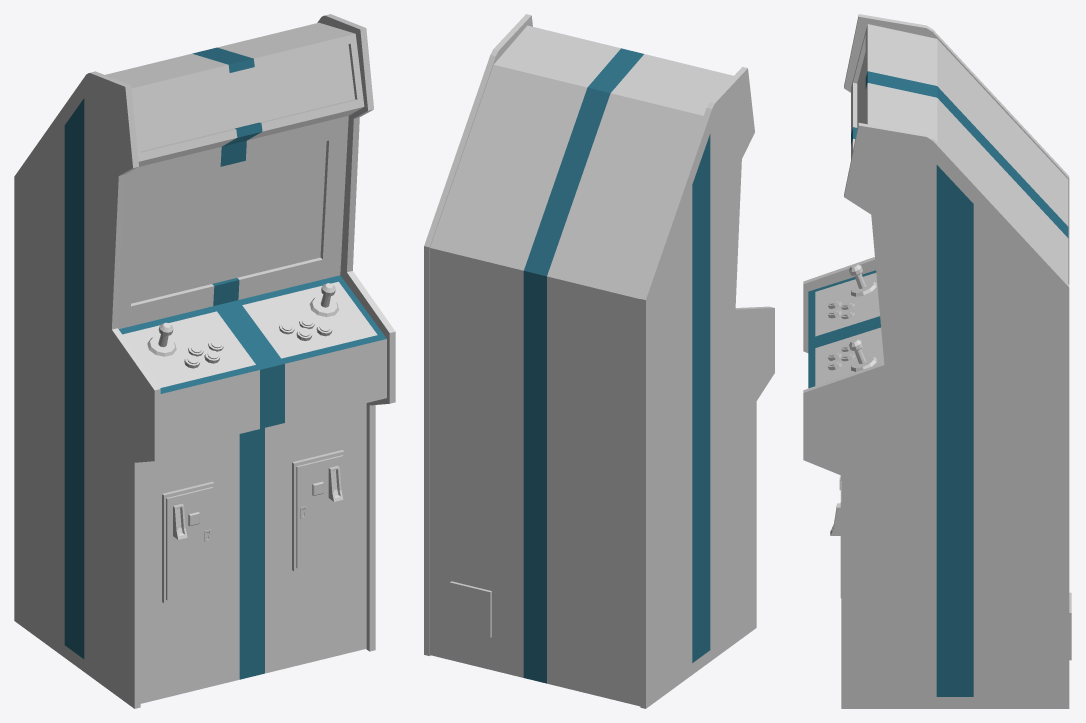
Rendered from 02_arcade_machine_V3.glb.
The picture shows the model from 3 angles, left to right: view 1: azimuth 30°, elevation 25°; view 2: azimuth 150°, elevation 25°; view 3: azimuth 270°, elevation 25°; orthographic projection. The views are drawn at different scales.
Parts seen in each view (by area): view 1: ArcadeMachineV2; view 2: ArcadeMachineV2; view 3: ArcadeMachineV2.
Part boxes in pixels (box(x1,y1,x2,y2)): ArcadeMachineV2: box(14, 14, 395, 708); ArcadeMachineV2: box(424, 14, 774, 708); ArcadeMachineV2: box(803, 14, 1071, 708).
Bounding box in the file's own units: 0.9856 × 2.4 × 1.
